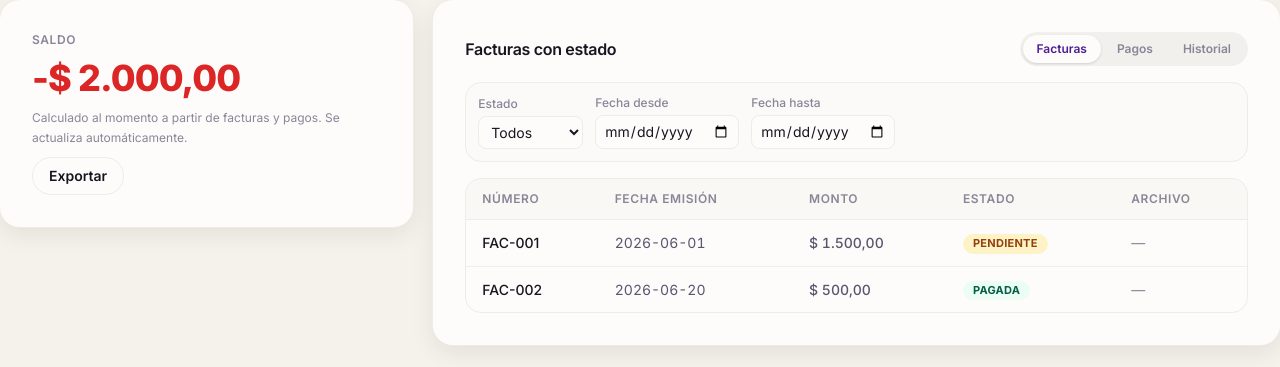
Test: CuentaCorrientePage › renders the HistorialCronologico with the full historial array after selecting the Historial tab
The image size is (1280, 367).
Click the button "Historial".
click(1207, 49)  # box top-left (1169, 35), bottom-right (1245, 63)
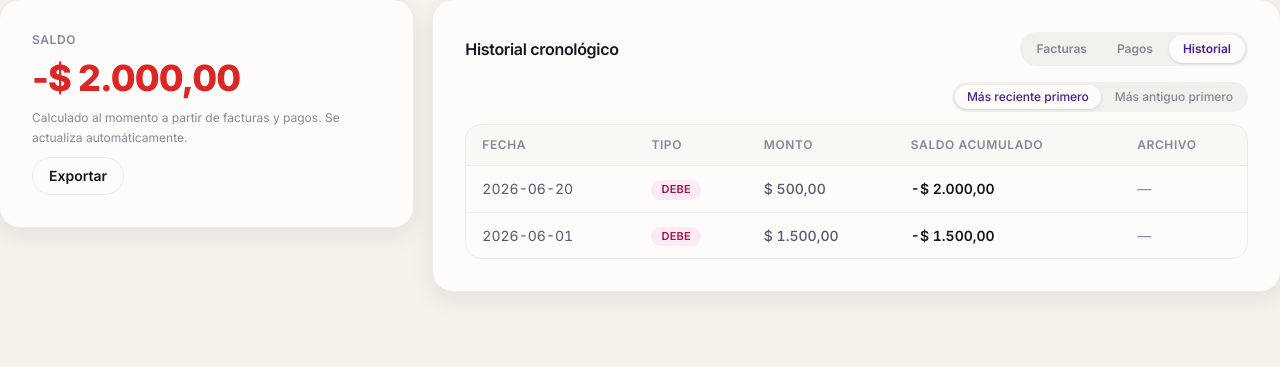
Expected: the row with test id "historial-row-f-1" is shown, top-left (466, 212), bottom-right (1247, 258)
Expected: the row with test id "historial-row-f-2" is shown, top-left (466, 166), bottom-right (1247, 212)
Expected: the row with test id "tabla-facturas-row-f-1" is gone
